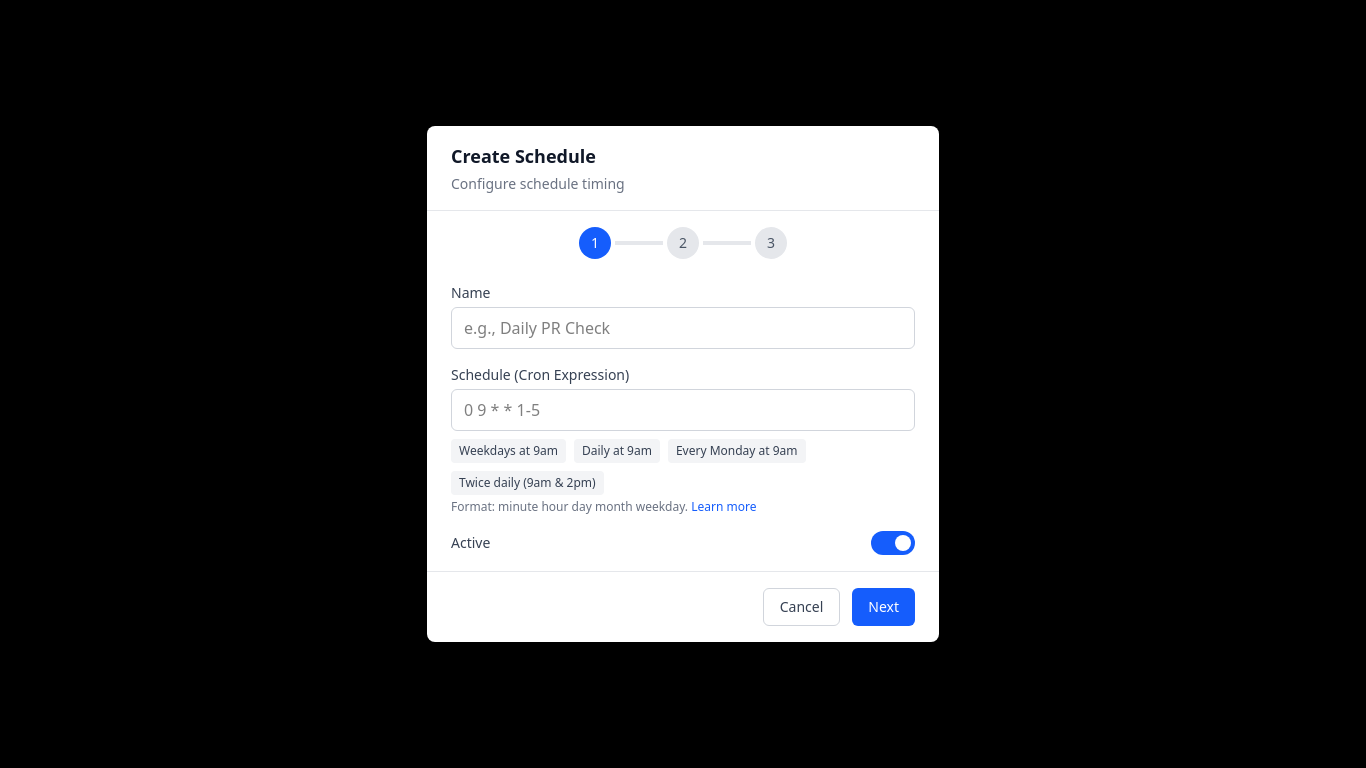
Scenario: ScheduleForm › Step 1: Schedule Details › validates cron expression format
This screenshot has width=1366, height=768.
Type "Test Schedule" into the field labelled "Name" at (683, 328), box [451,307,915,349]
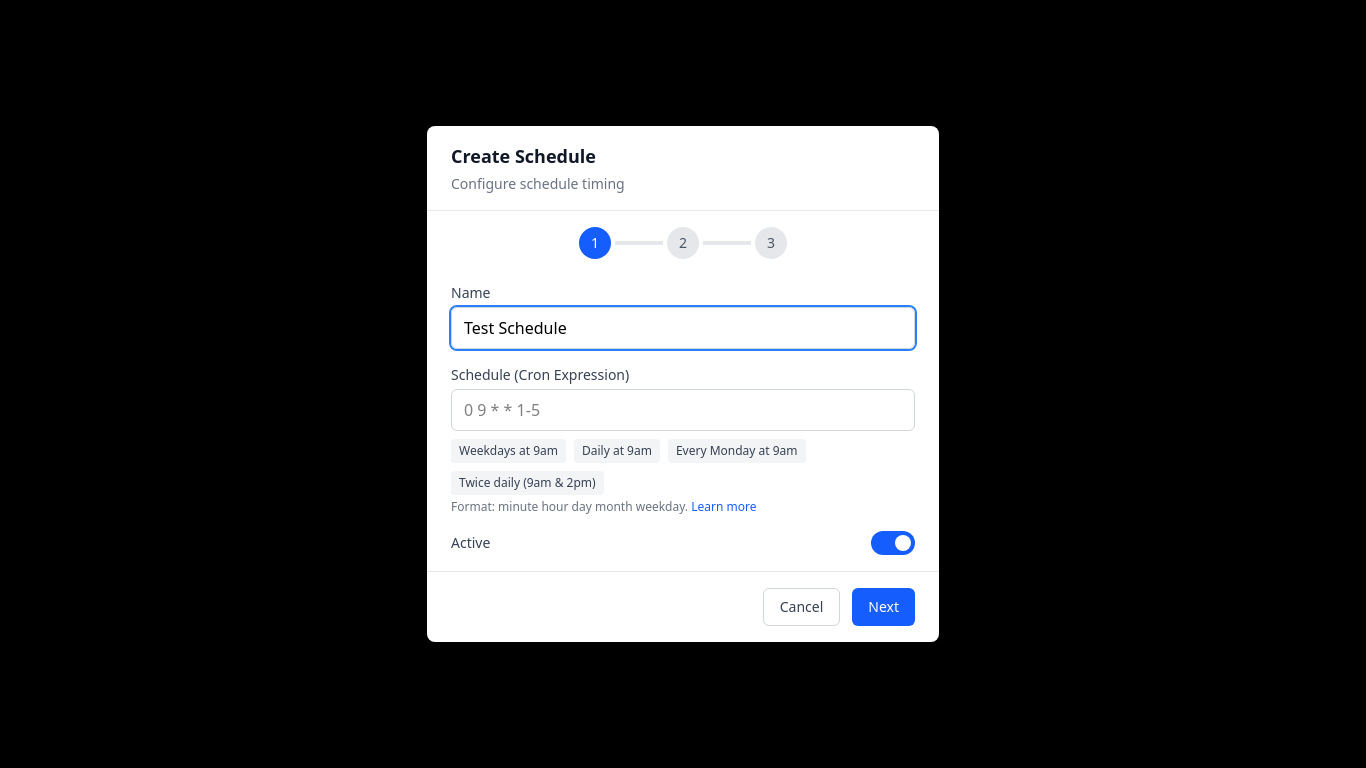
Type "invalid" into the field labelled "Schedule (Cron Expression)" at (683, 410), box [451,389,915,431]
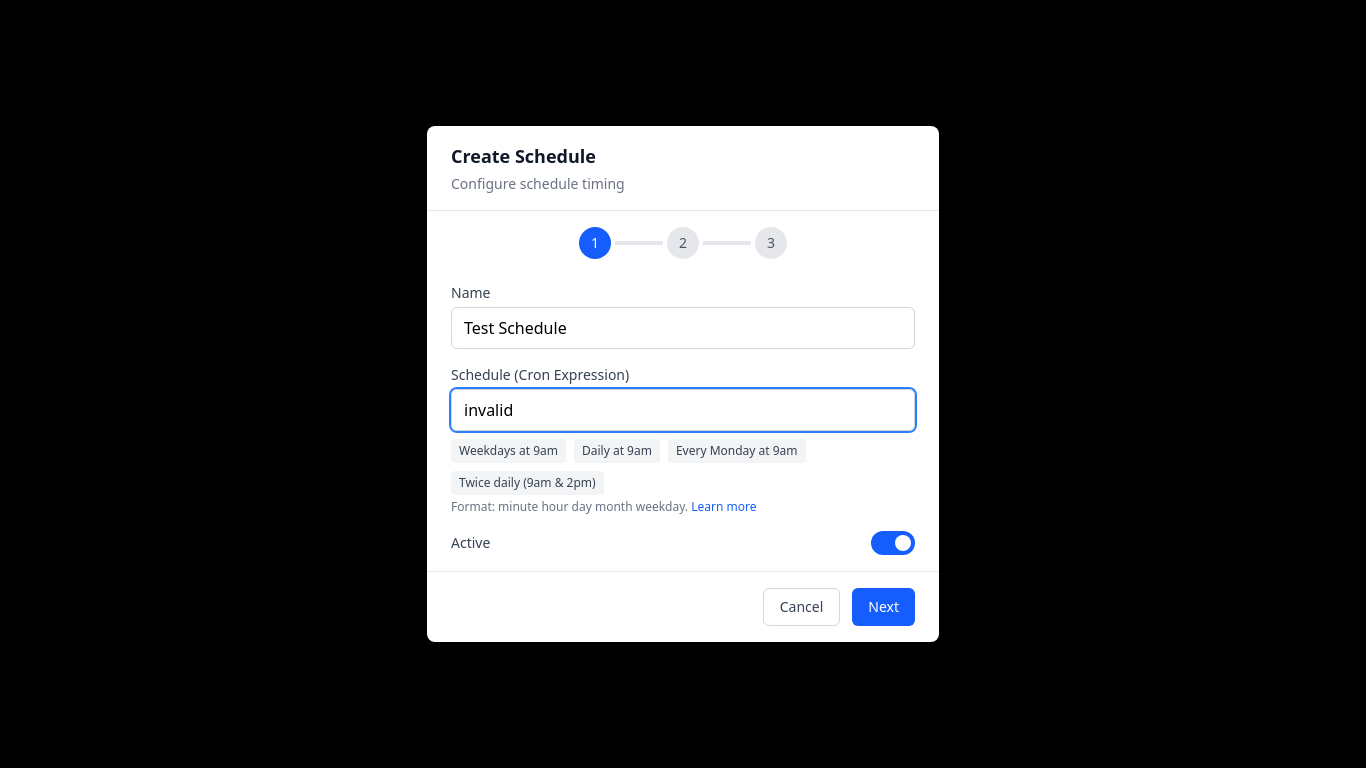
Click the button "Next" at (884, 607), box [852,588,915,626]
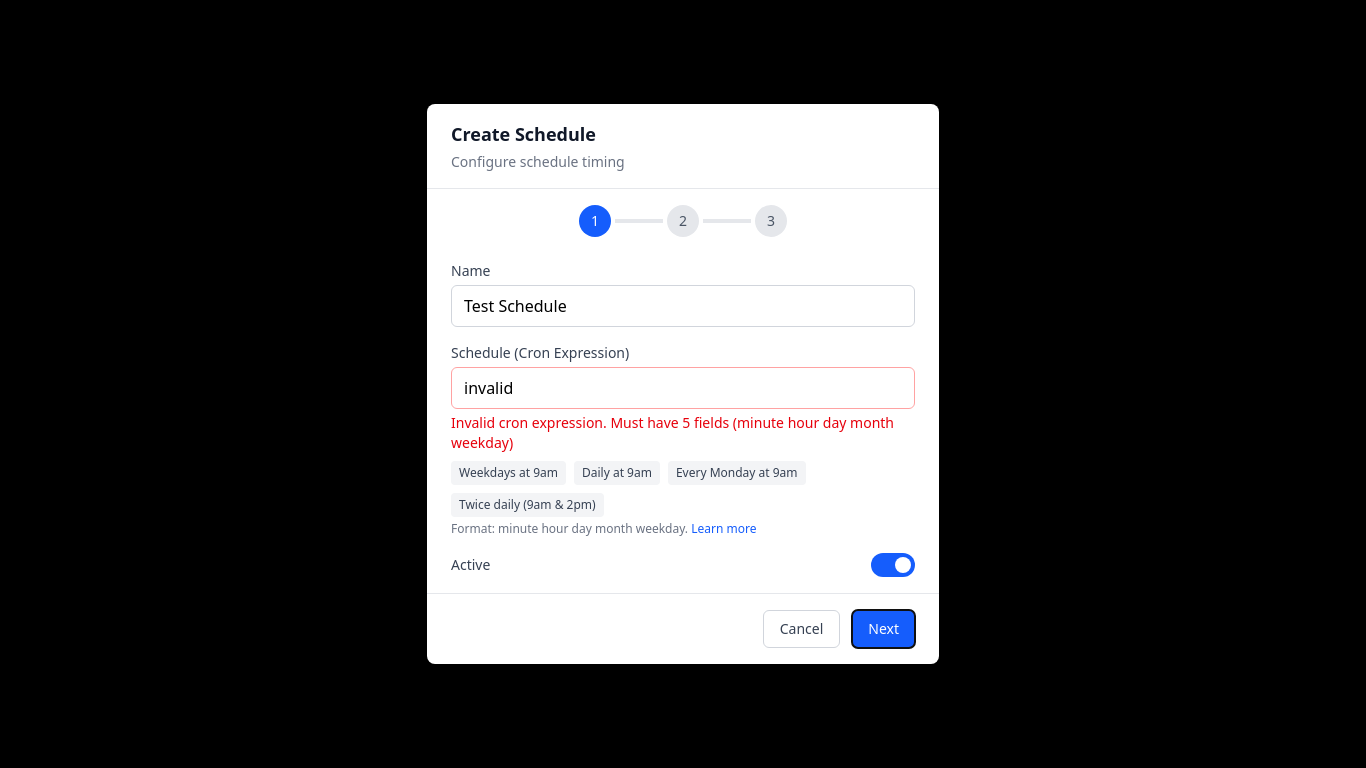
Expected: the text "Invalid cron expression" is shown, [451,413,894,452]
